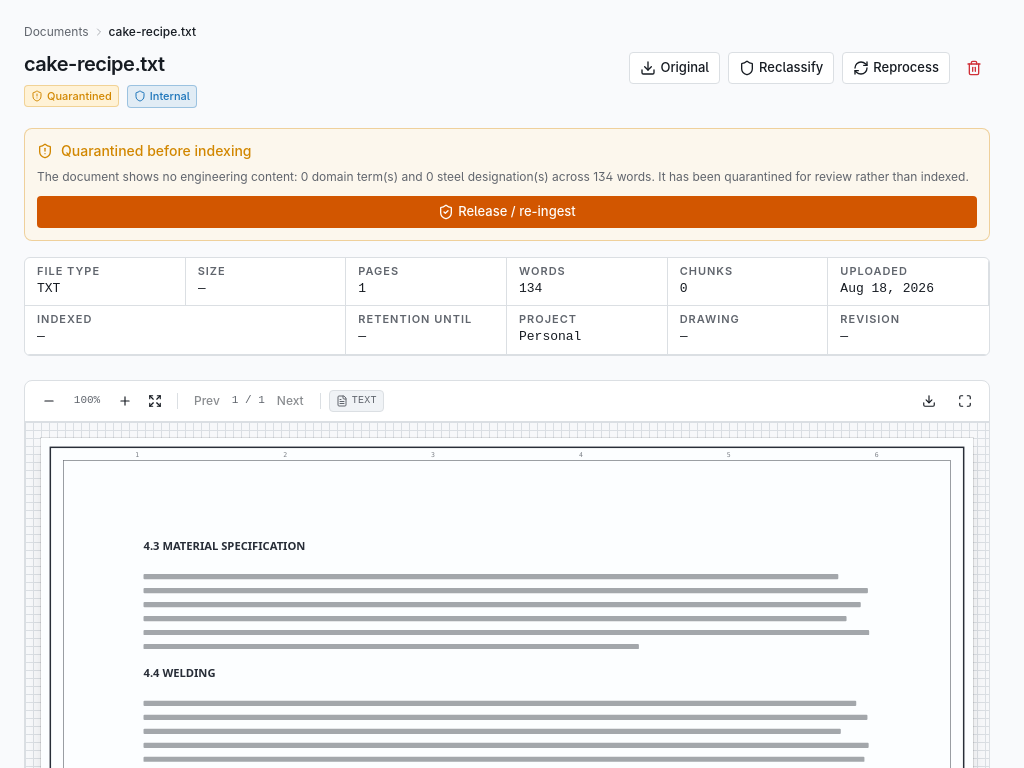
the confirmation flow › says plainly that release is not an exemption
The image size is (1024, 768).
Click the button "Release / re-ingest": (507, 212) [37,196,977,228]
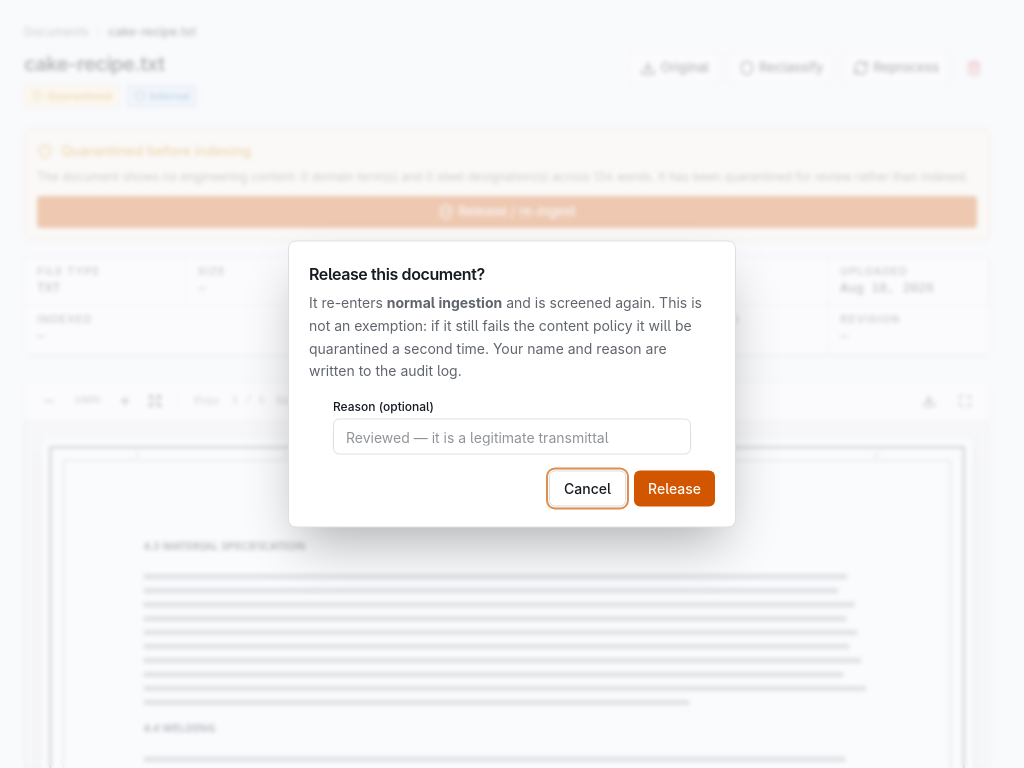
Expected: the text "quarantined a second time" is shown, [309,294,702,379]
